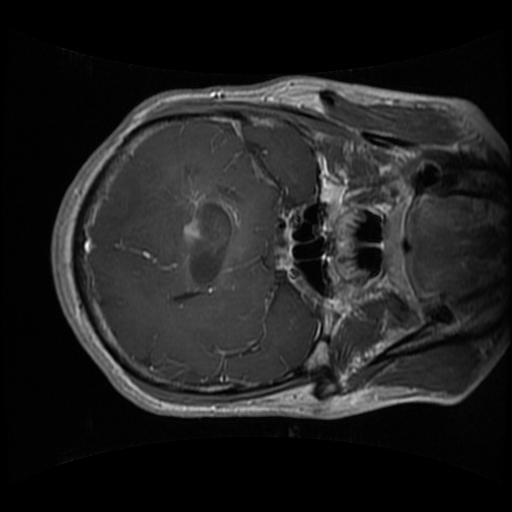glioma: (165, 176, 245, 307)
